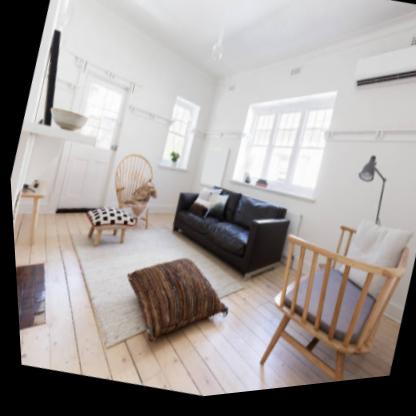Window: (237, 107, 331, 196), (158, 102, 197, 177)
